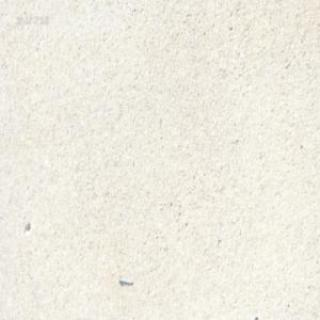Nailtrack_idkeyframe: (116, 274, 132, 284)
